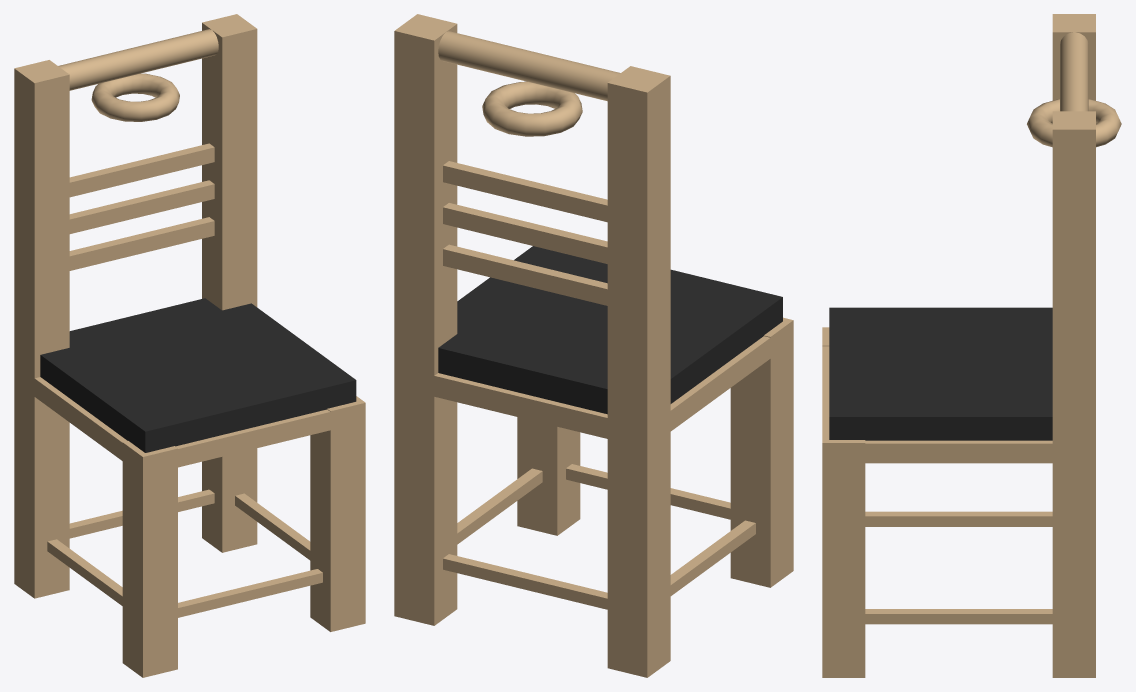
File: chair_1756455696156.gltf
3 renders of one model, left to right at view 1: azimuth 30°, elevation 25°; view 2: azimuth 150°, elevation 25°; view 3: azimuth 270°, elevation 25°, orthographic. The views are drawn at different scales.
Bounding box in the file's own units: 1.9 × 4.2 × 2.08.
